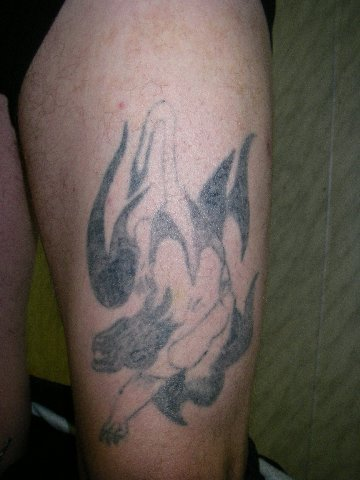tatu6_drakon: (77, 84, 270, 452)
